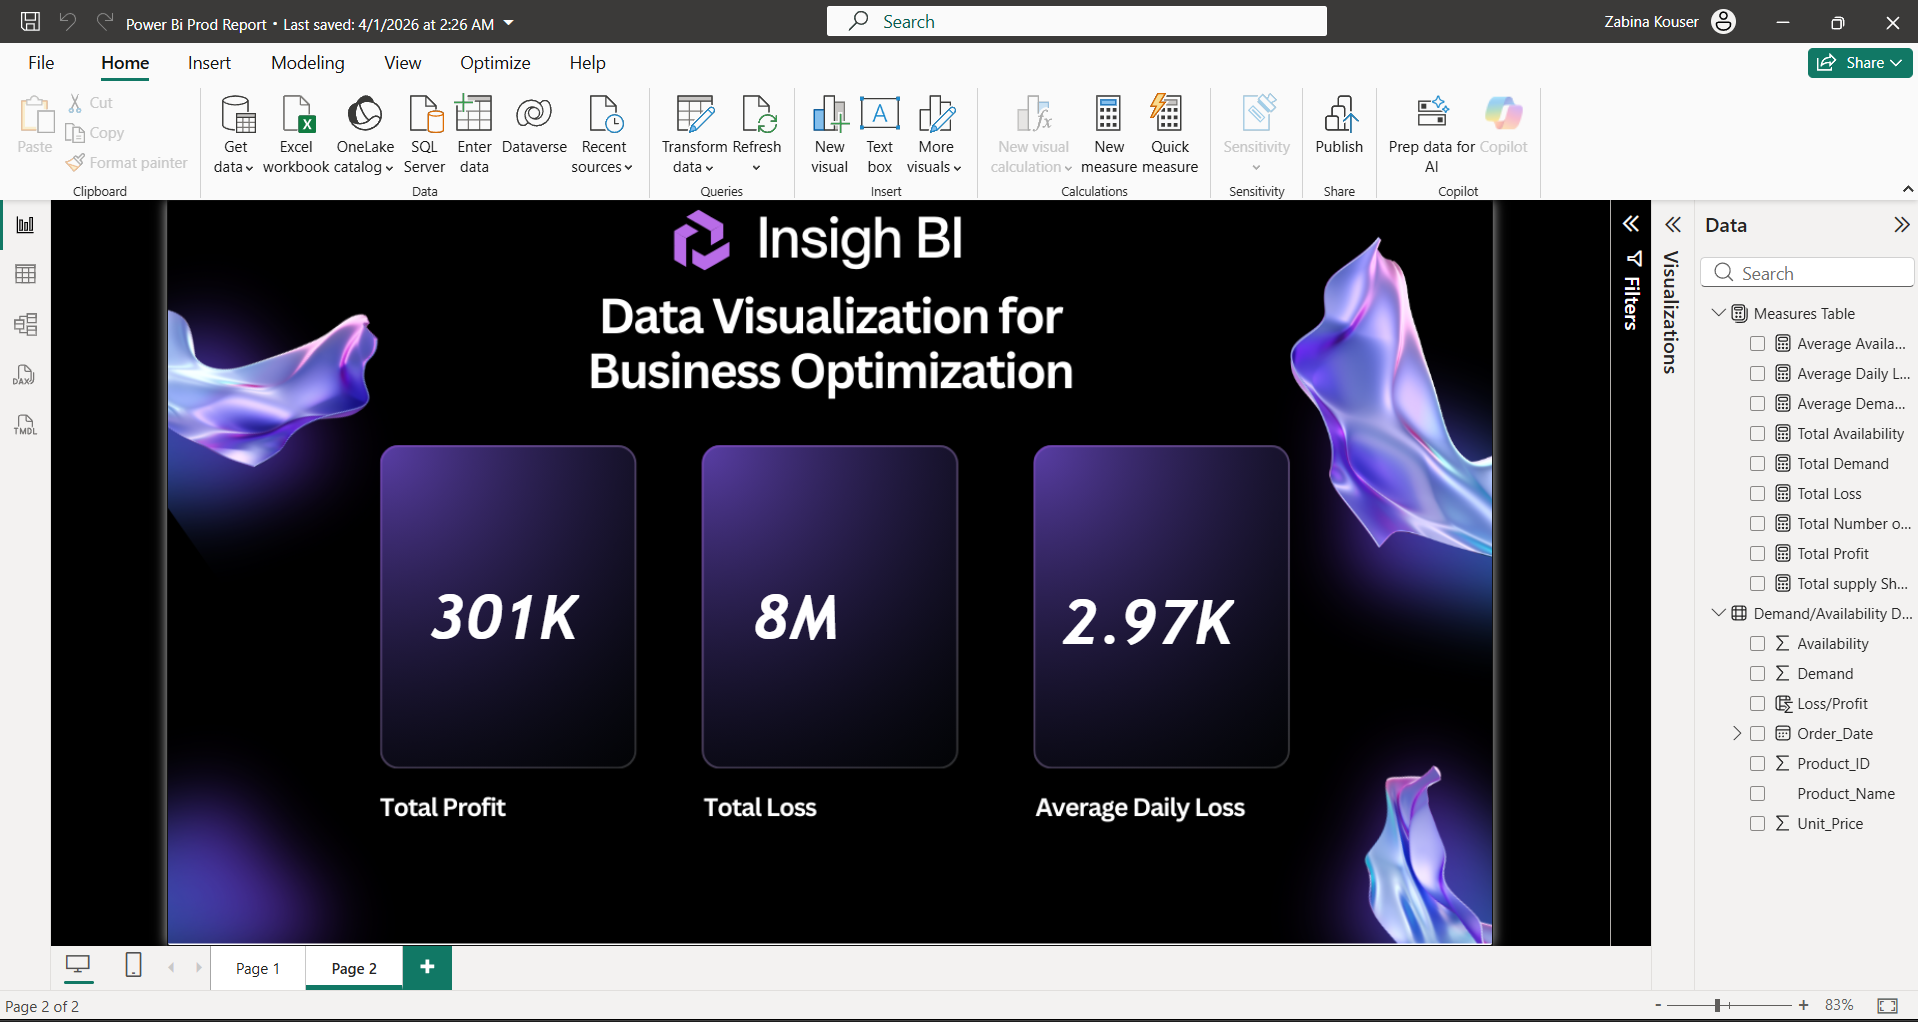

This screenshot's page, from the dashboard's own definition file:
{"tool":"powerbi","page":{"name":"Page 2","canvas":[1280,720],"ordinal":1},"visuals":[{"type":"cardVisual","fields":{"Data":["Measures Table.Total Profit"]},"box":[224.4,287.1,205.1,229.2],"z":0},{"type":"cardVisual","fields":{"Data":["Measures Table.Total Loss"]},"box":[536.9,287.1,205.1,229.2],"z":1000},{"type":"cardVisual","fields":{"Data":["Measures Table.Average Daily Loss"]},"box":[834.9,287.1,247.3,238.9],"z":2000}]}

Visuals, with their boxes on the page's 1280x720 design canvas (x1, y1, x2, y2). These are canvas units, not pixel positions in the 1918x1022 screenshot, which may show the page scaled, cropped or inside an application window:
cardVisual - Measures Table.Total Profit: <region>224, 287, 430, 516</region>
cardVisual - Measures Table.Total Loss: <region>537, 287, 742, 516</region>
cardVisual - Measures Table.Average Daily Loss: <region>835, 287, 1082, 526</region>
